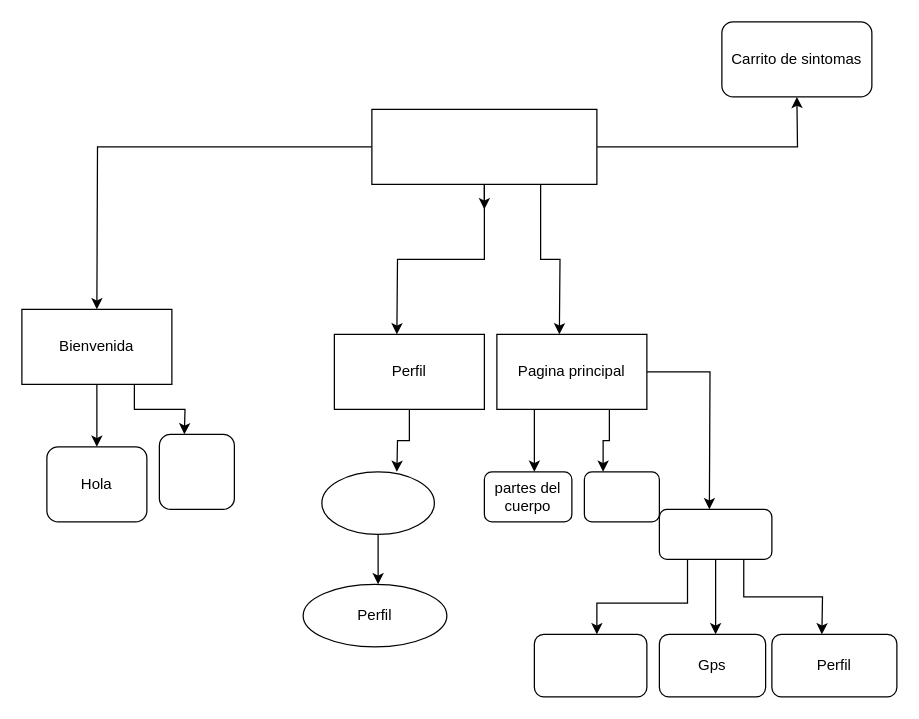
Image size: 919x719. Some labels were removed from this diagram. The box of each missing label's shape, as (x1, y1, x2, y2) in pixels:
AppBar inferior: (658, 508, 772, 559)
Guardar perfil: (321, 471, 434, 534)
Material app: (371, 108, 597, 184)
Terminos y permisos: (158, 433, 234, 509)
